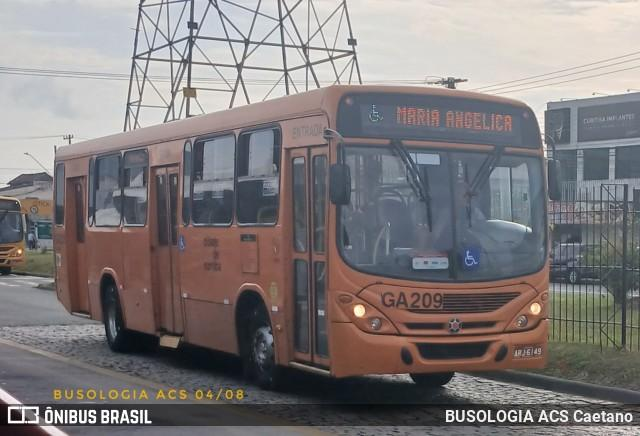MARIA ANGELICA: (391, 102, 514, 135)
